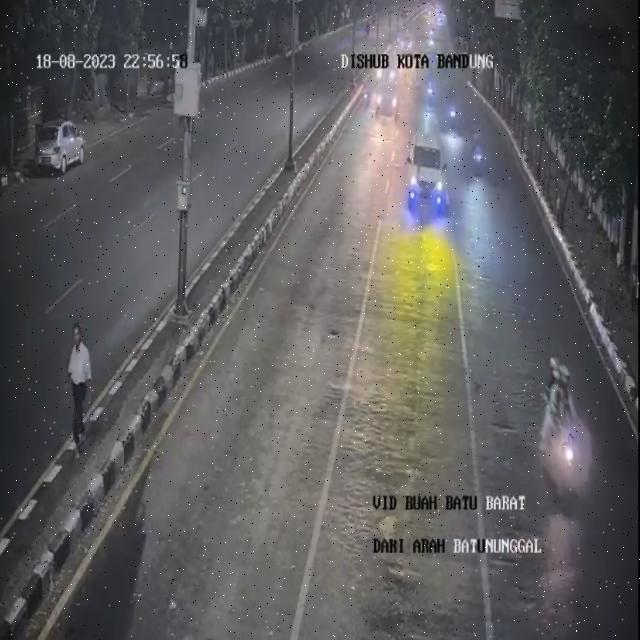cars: (405, 125, 453, 214), (375, 78, 399, 132), (399, 27, 415, 57)
motorcycle: (532, 337, 586, 495), (464, 118, 486, 171), (442, 87, 459, 144), (357, 74, 374, 111), (424, 68, 440, 102)
